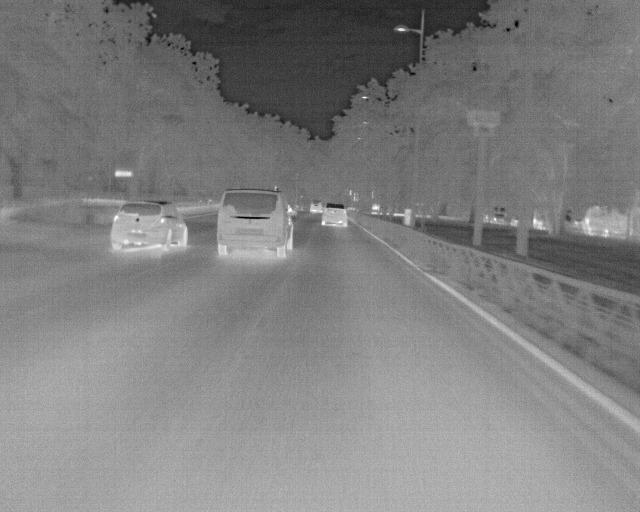car: (217, 188, 297, 258), (110, 199, 188, 252), (584, 206, 634, 238), (532, 210, 578, 231), (321, 202, 348, 228), (493, 207, 508, 226), (309, 200, 324, 213)
light: (349, 189, 352, 196), (371, 191, 374, 198)
sign: (113, 171, 133, 177)
